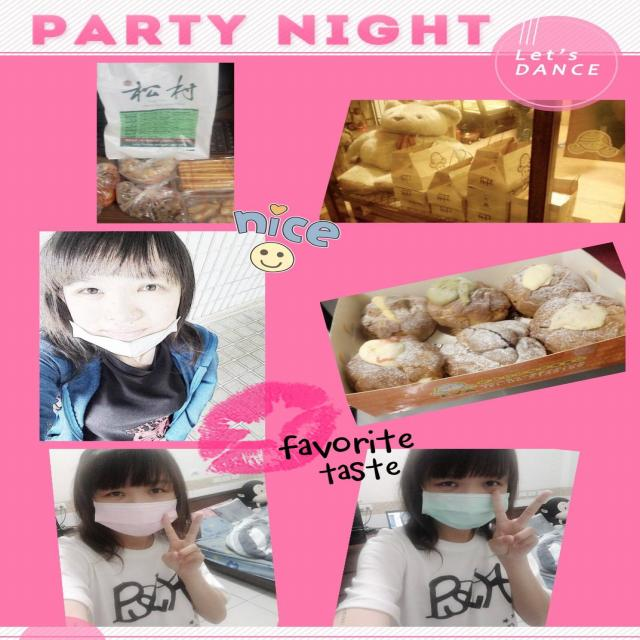mask: (425, 450, 508, 531), (96, 470, 176, 536)
nomask: (60, 233, 182, 348)
